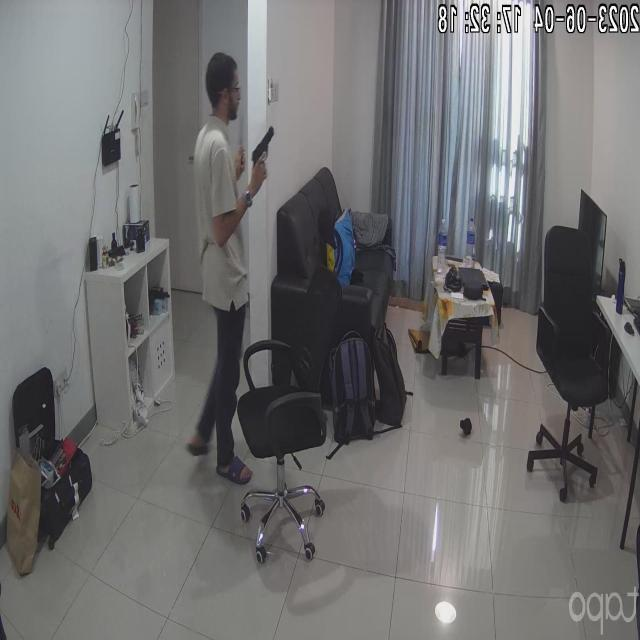Gun: (246, 126, 289, 186)
